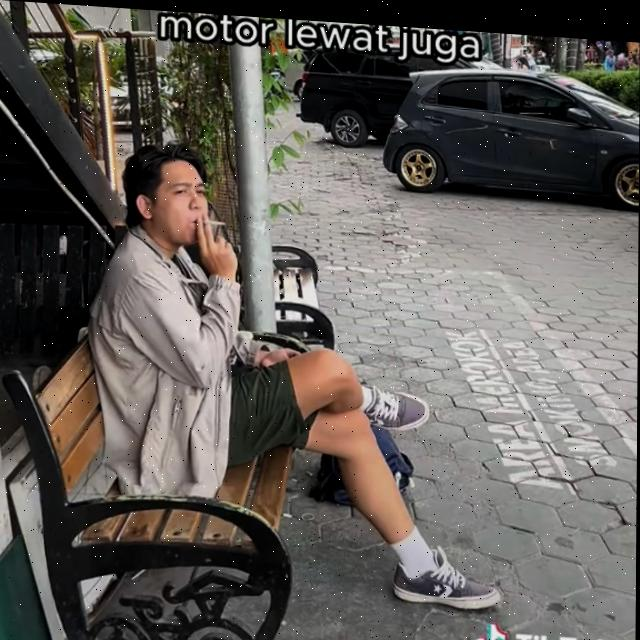cigarette: (203, 218, 226, 223)
